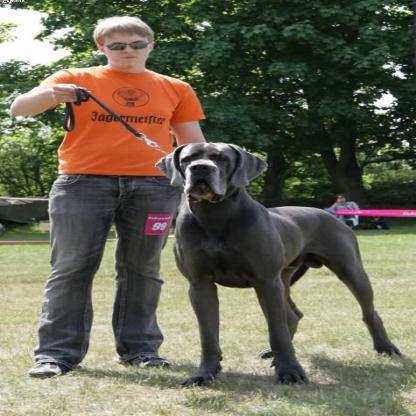Great_Dane: (153, 141, 404, 386)
